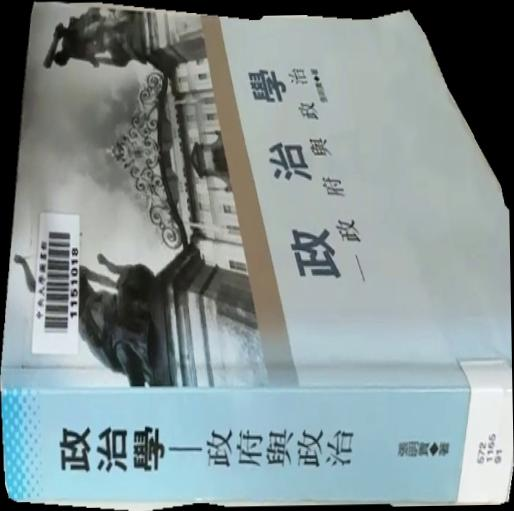flat: (1, 1, 514, 511)
